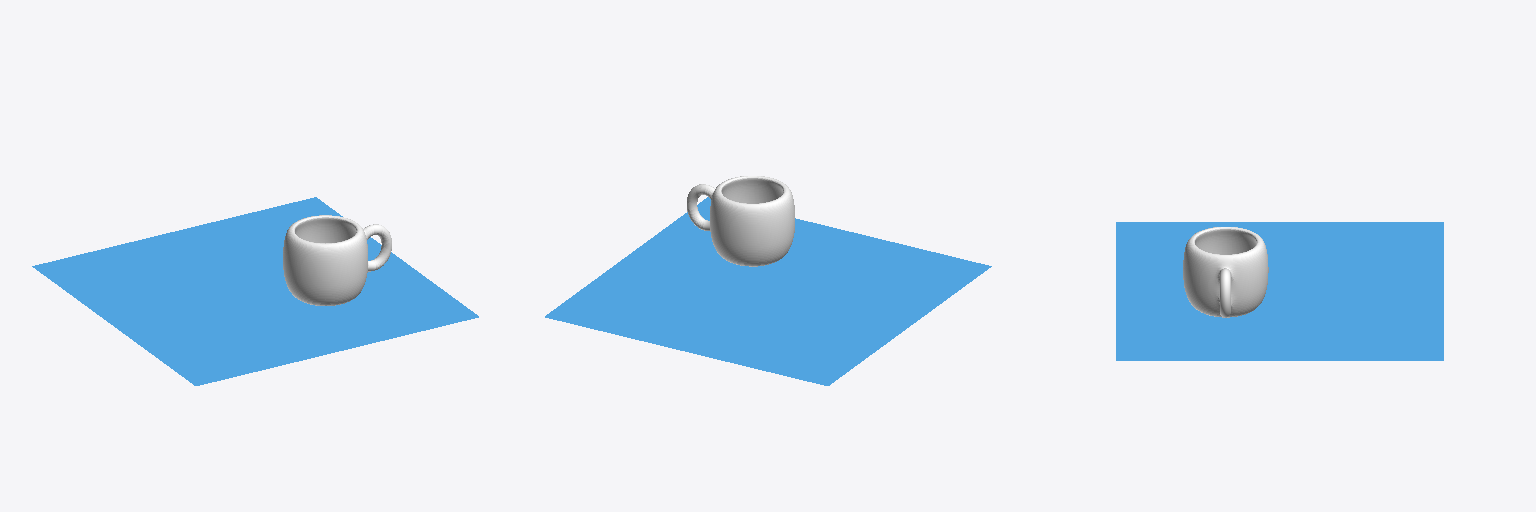
File: cup.obj
The picture shows the model from 3 angles: view 1: azimuth 30°, elevation 25°; view 2: azimuth 150°, elevation 25°; view 3: azimuth 270°, elevation 25°; orthographic projection.
Parts seen in each view (by area): view 1: Floor, NurbsPath_Mesh; view 2: Floor, NurbsPath_Mesh; view 3: Floor, NurbsPath_Mesh.
Part boxes in pixels (left/top/right/bottom): Floor: left=32, top=197, right=478, bottom=385; NurbsPath_Mesh: left=283, top=215, right=391, bottom=305; Floor: left=545, top=197, right=991, bottom=385; NurbsPath_Mesh: left=687, top=176, right=794, bottom=266; Floor: left=1116, top=222, right=1443, bottom=360; NurbsPath_Mesh: left=1183, top=227, right=1268, bottom=317.
Bounding box in the file's own units: 8 × 1.92 × 8.